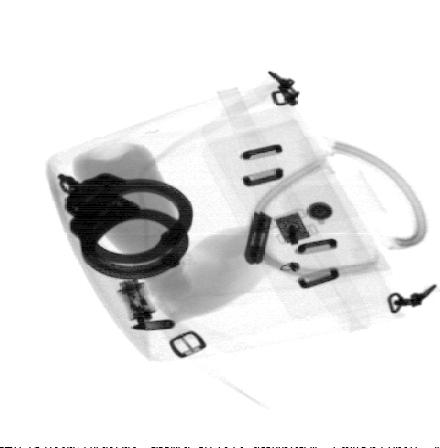Bullet: (133, 319, 175, 332)
HandCuffs: (49, 171, 194, 283)
